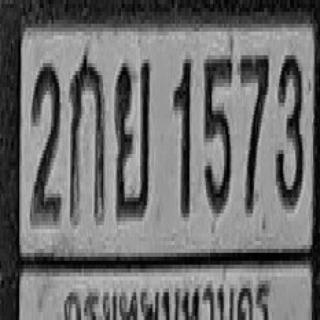A01: (69, 53, 104, 219)
A34: (115, 59, 150, 217)
N01: (173, 57, 191, 215)
N02: (30, 61, 60, 219)
N03: (275, 51, 303, 206)
N05: (203, 53, 232, 211)
N07: (239, 51, 269, 209)
